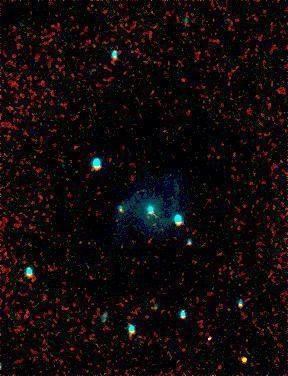star: (230, 345, 260, 375)
